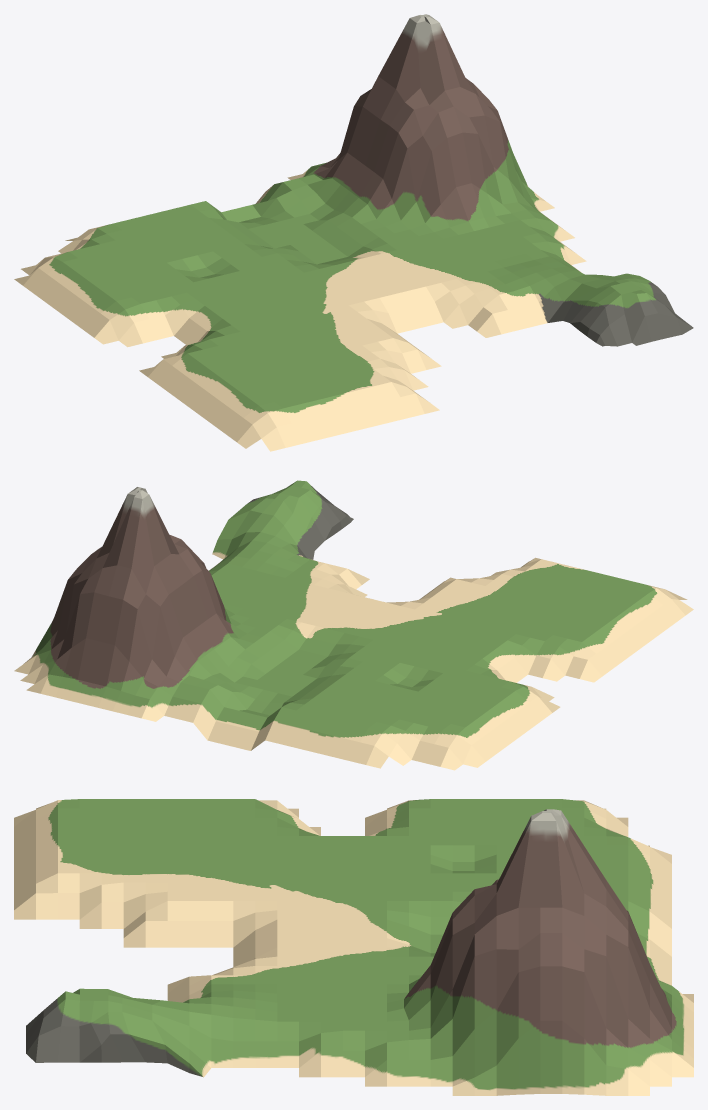
Rendered from mechisland.fbx.
The picture shows the model from 3 angles, top to bottom: view 1: azimuth 30°, elevation 25°; view 2: azimuth 150°, elevation 25°; view 3: azimuth 270°, elevation 25°; orthographic projection. The views are drawn at different scales.
Visible parts, largest first — view 1: Plane; view 2: Plane; view 3: Plane.
Part boxes in pixels (x1,y1,x2,y2): Plane: (14, 14, 693, 451); Plane: (14, 480, 693, 770); Plane: (14, 799, 693, 1095).
Bounding box in the file's own units: 55956 × 22503 × 55956.
